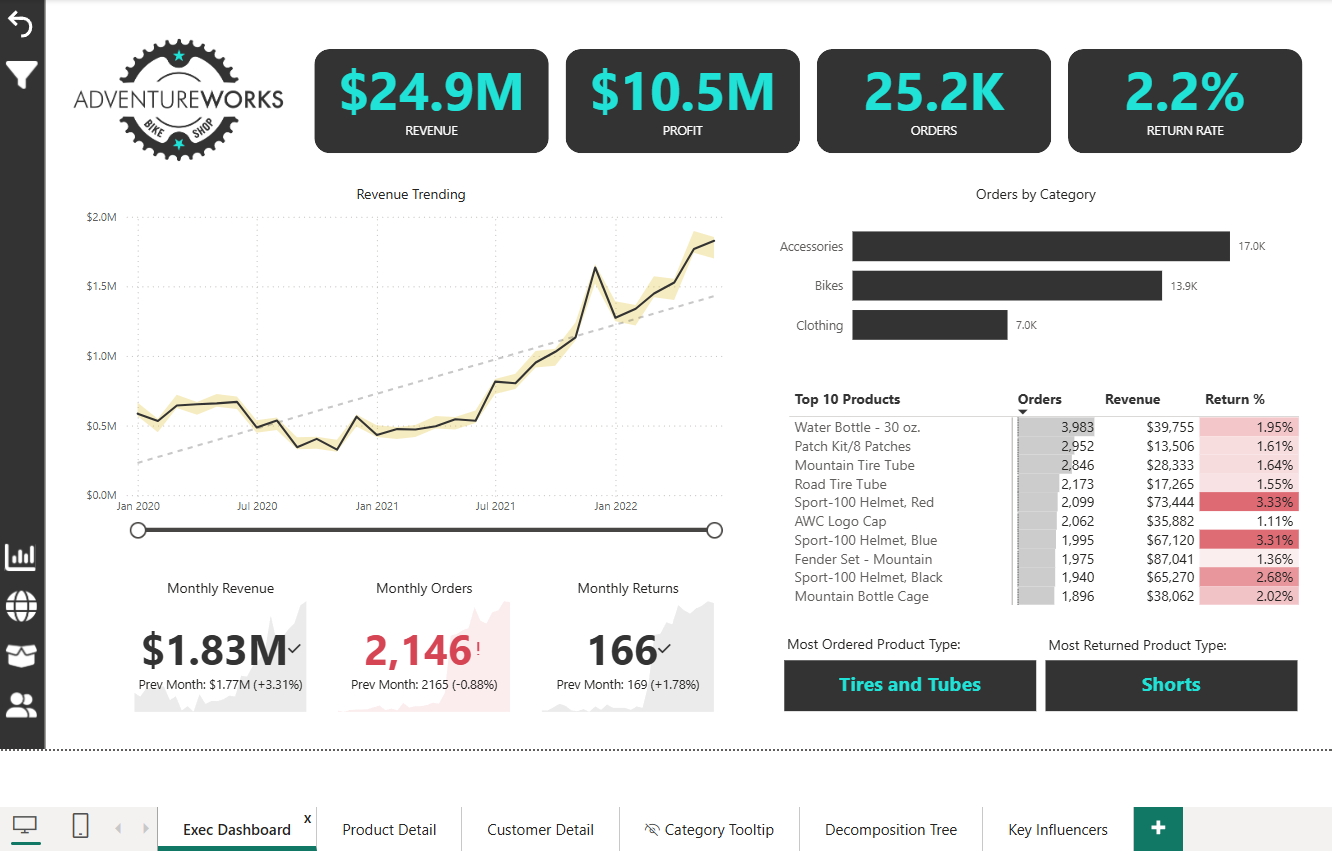

Layout of this report page (visuals, bound fields, positions):
{"tool":"powerbi","page":{"name":"Exec Dashboard","canvas":[1280,720],"ordinal":0},"visuals":[{"type":"card","fields":{"Values":["Measure Table.Total Revenue"]},"box":[288.1,17.8,256.2,150],"z":0,"group":"g2"},{"type":"image","title":"AW Logo","box":[45.6,26.6,256.2,141.2],"z":0},{"type":"shape","box":[303.1,47.8,225,100],"z":0,"group":"g1"},{"type":"actionButton","box":[2.5,516.7,45.6,37.8],"z":0,"group":"g3"},{"type":"card","fields":{"Values":["Measure Table.Total Profit"]},"box":[528.9,17.8,256.2,150],"z":1000,"group":"g2"},{"type":"shape","box":[543.9,47.8,225,100],"z":1000,"group":"g1"},{"type":"actionButton","box":[3.3,563.4,45.6,37.8],"z":1000,"group":"g3"},{"type":"card","fields":{"Values":["Measure Table.Total Orders"]},"box":[769.8,17.8,256.2,150],"z":2000,"group":"g2"},{"type":"group","id":"g1","title":"KPI Backgrounds","box":[303.1,47.8,947.5,100],"z":2000},{"type":"shape","box":[784.8,47.8,225,100],"z":2000,"group":"g1"},{"type":"actionButton","box":[3.3,611.1,45.6,37.8],"z":2000,"group":"g3"},{"type":"shape","title":"Left Nav Background","box":[0,0,45,720],"z":3000},{"type":"card","fields":{"Values":["Measure Table.Return Rate"]},"box":[1010.6,17.8,256.2,150],"z":3000,"group":"g2"},{"type":"shape","box":[1025.6,47.8,225,100],"z":3000,"group":"g1"},{"type":"actionButton","box":[3.3,657.8,45.6,37.8],"z":3000,"group":"g3"},{"type":"group","id":"g2","title":"KPI Values","box":[288.1,17.8,978.8,150],"z":4000},{"type":"lineChart","title":"Revenue Trending","fields":{"Category":["Calendar Lookup.Start of Month"],"Y":["Measure Table.Total Revenue"]},"box":[78.9,177.7,633.8,342.5],"z":5000},{"type":"kpi","title":"Monthly Revenue","fields":{"Goal":["Measure Table.Previous Month Revenue"],"Indicator":["Measure Table.Total Revenue"],"TrendLine":["Calendar Lookup.Start of Month"]},"box":[126.2,555,175,133.8],"z":6000},{"type":"kpi","title":"Monthly Orders","fields":{"Goal":["Measure Table.Previous Month Orders"],"Indicator":["Measure Table.Total Orders"],"TrendLine":["Calendar Lookup.Start of Month"]},"box":[321.2,555,175,133.8],"z":7000},{"type":"kpi","title":"Monthly Returns","fields":{"Goal":["Measure Table.Previous Month Returns"],"Indicator":["Measure Table.Total Returns"],"TrendLine":["Calendar Lookup.Start of Month"]},"box":[516.2,555,175,133.8],"z":8000},{"type":"clusteredBarChart","title":"Orders by Category","fields":{"Category":["Product Categories Lookup.CategoryName"],"Y":["Measure Table.Total Orders"]},"box":[738.9,177.7,511.2,171.2],"z":9000},{"type":"pivotTable","fields":{"Rows":["Product Lookup.ProductName"],"Values":["Measure Table.Total Orders","Measure Table.Total Revenue","Measure Table.Return Rate"]},"box":[753.7,369.2,511.1,228.4],"z":10000},{"type":"card","fields":{"Values":["Min(Product Subcategories Lookup.SubcategoryName)"]},"box":[753.7,634.2,241.4,48.5],"z":11000},{"type":"textbox","box":[751.3,604.6,198.8,35.5],"z":12000},{"type":"card","fields":{"Values":["Min(Product Subcategories Lookup.SubcategoryName)"]},"box":[1004.1,634.2,241.4,48.5],"z":13000},{"type":"textbox","box":[1002.2,605.2,198.8,35.5],"z":14000},{"type":"actionButton","box":[3.3,5.6,35.6,35.6],"z":15000},{"type":"group","id":"g3","title":"Navigation Buttons","box":[2.5,516.7,46.4,178.9],"z":16000},{"type":"actionButton","box":[3.4,53.1,38.4,39.6],"z":17000}]}

Visuals, with their boxes on the page's 1280x720 design canvas (x1, y1, x2, y2). These are canvas units, not pixel positions in the 1332x851 screenshot, which may show the page scaled, cropped or inside an application window:
card - Measure Table.Total Revenue: locate(288, 18, 544, 168)
"AW Logo" image: locate(46, 27, 302, 168)
shape: locate(303, 48, 528, 148)
actionButton: locate(2, 517, 48, 554)
card - Measure Table.Total Profit: locate(529, 18, 785, 168)
shape: locate(544, 48, 769, 148)
actionButton: locate(3, 563, 49, 601)
card - Measure Table.Total Orders: locate(770, 18, 1026, 168)
"KPI Backgrounds" group: locate(303, 48, 1251, 148)
shape: locate(785, 48, 1010, 148)
actionButton: locate(3, 611, 49, 649)
"Left Nav Background" shape: locate(0, 0, 45, 720)
card - Measure Table.Return Rate: locate(1011, 18, 1267, 168)
shape: locate(1026, 48, 1251, 148)
actionButton: locate(3, 658, 49, 696)
"KPI Values" group: locate(288, 18, 1267, 168)
"Revenue Trending" lineChart: locate(79, 178, 713, 520)
"Monthly Revenue" kpi: locate(126, 555, 301, 689)
"Monthly Orders" kpi: locate(321, 555, 496, 689)
"Monthly Returns" kpi: locate(516, 555, 691, 689)
"Orders by Category" clusteredBarChart: locate(739, 178, 1250, 349)
pivotTable - Product Lookup.ProductName x Measure Table.Total Orders: locate(754, 369, 1265, 598)
card - Min(Product Subcategories Lookup.SubcategoryName): locate(754, 634, 995, 683)
textbox: locate(751, 605, 950, 640)
card - Min(Product Subcategories Lookup.SubcategoryName): locate(1004, 634, 1246, 683)
textbox: locate(1002, 605, 1201, 641)
actionButton: locate(3, 6, 39, 41)
"Navigation Buttons" group: locate(2, 517, 49, 696)
actionButton: locate(3, 53, 42, 93)
